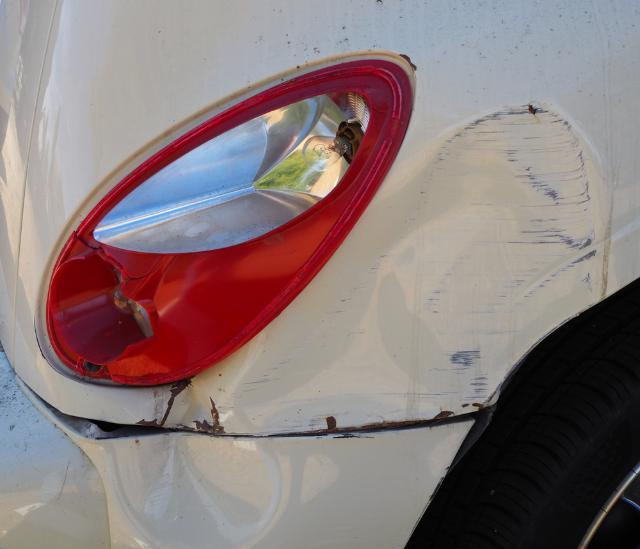dent: (155, 108, 597, 434), (103, 425, 279, 540)
lamp broken: (44, 58, 411, 387)
